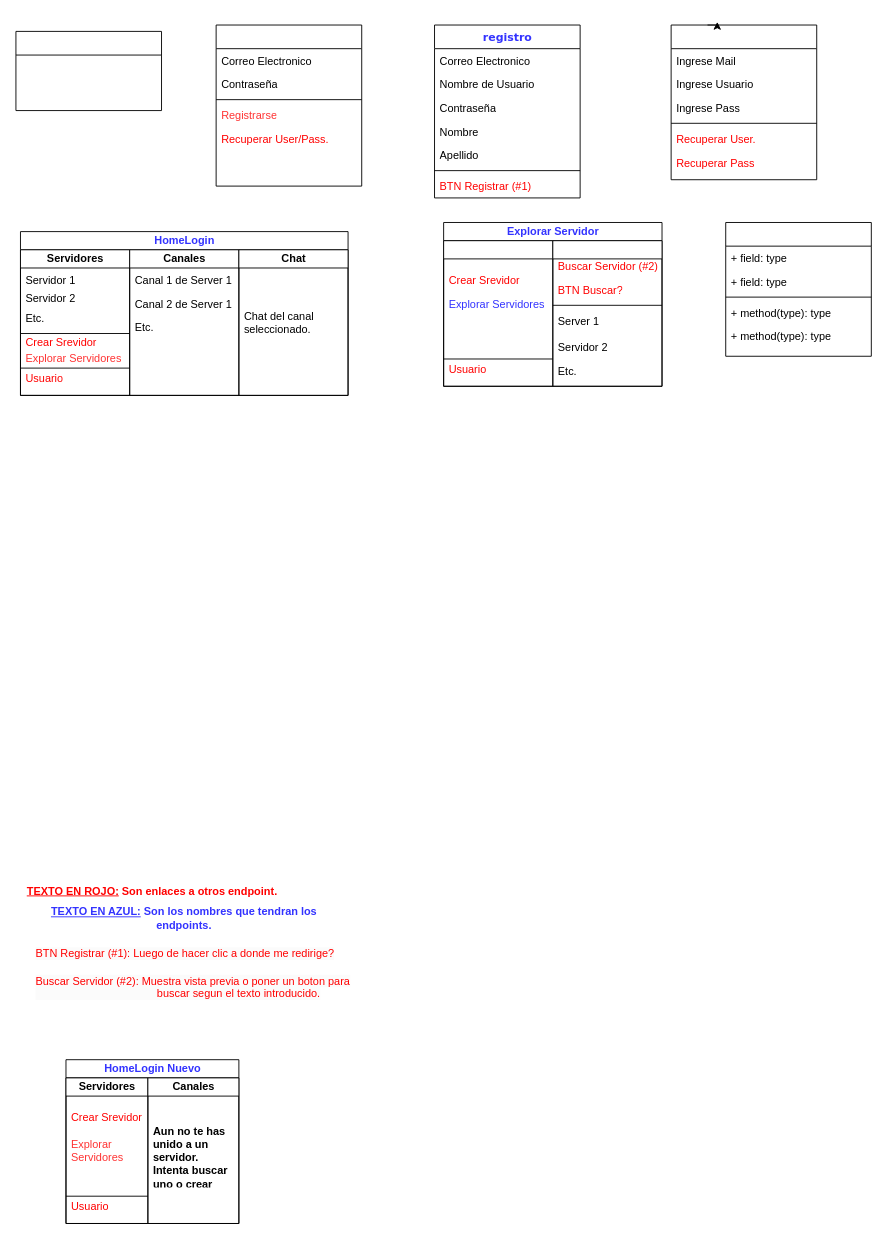
Some shapes in this 887 by 1240 pixel diagram are drawn without their labels. The shapes that lost their labels are listed below. From the top down, each one's box as (x1, y1, x2, y2) in pixels, then its label:
(15, 30, 162, 111): Home
(215, 24, 362, 186): login
(670, 24, 817, 180): recuperar_user_pass
(725, 222, 871, 356): Perfil_Usuario
